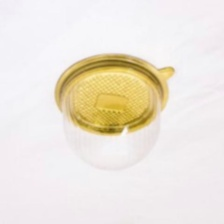plastic_box: (44, 47, 180, 181)
